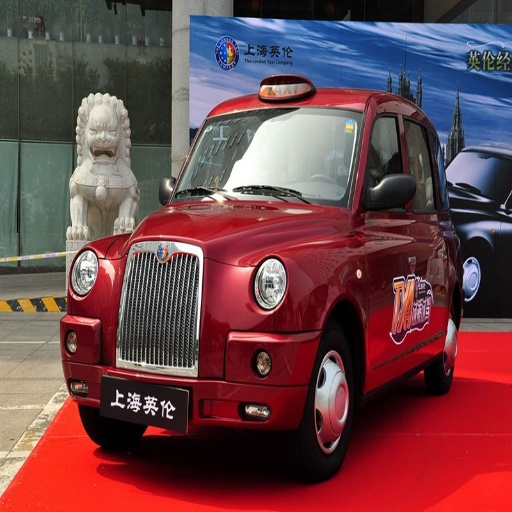front_bumper: (68, 244, 319, 425), (61, 292, 111, 332)
front_glass: (173, 108, 361, 204)
front_left_door: (359, 98, 418, 363)
trunk: (284, 265, 341, 333), (107, 326, 146, 376)
